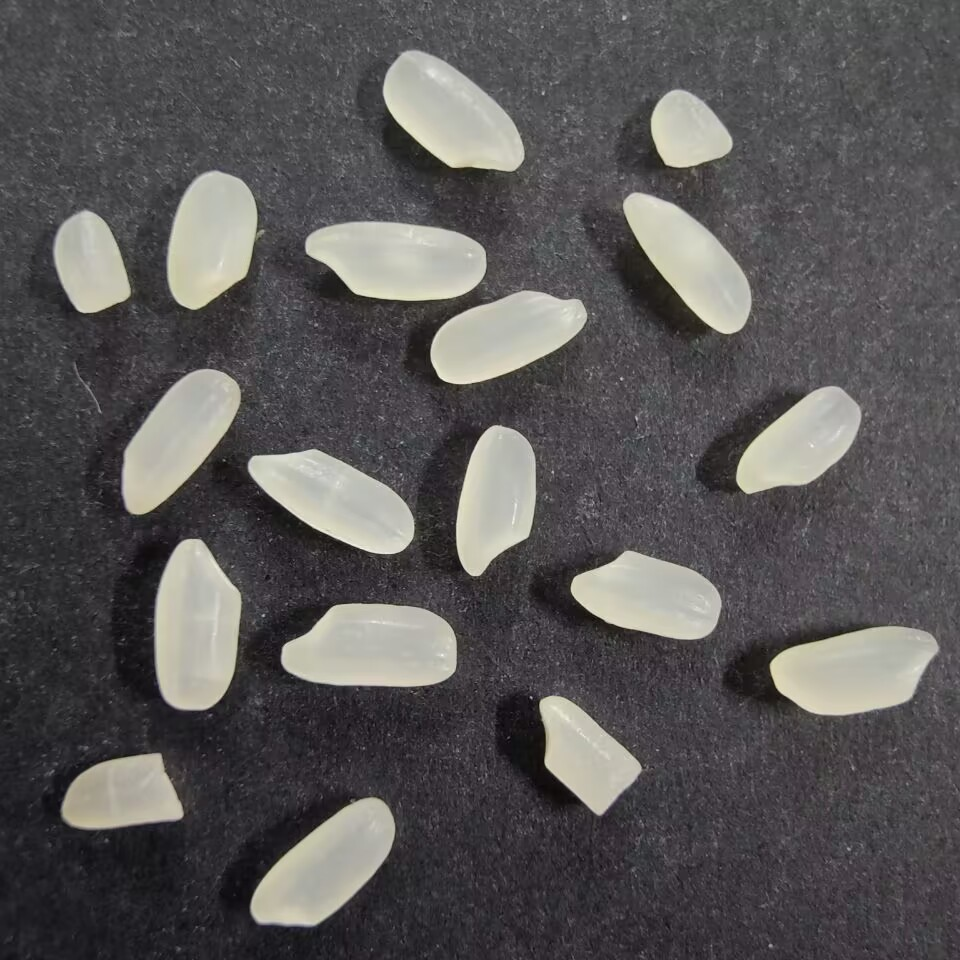broken: (535, 692, 646, 820), (57, 748, 186, 837), (50, 210, 137, 317), (646, 87, 733, 174)
rice: (243, 791, 402, 931), (619, 188, 756, 338), (241, 444, 420, 556), (379, 44, 527, 179), (117, 365, 243, 516), (148, 535, 245, 717), (277, 597, 462, 692), (427, 288, 589, 389), (767, 625, 941, 719), (298, 218, 487, 301), (567, 547, 726, 643), (733, 384, 864, 496), (164, 167, 261, 313), (455, 419, 539, 581)
